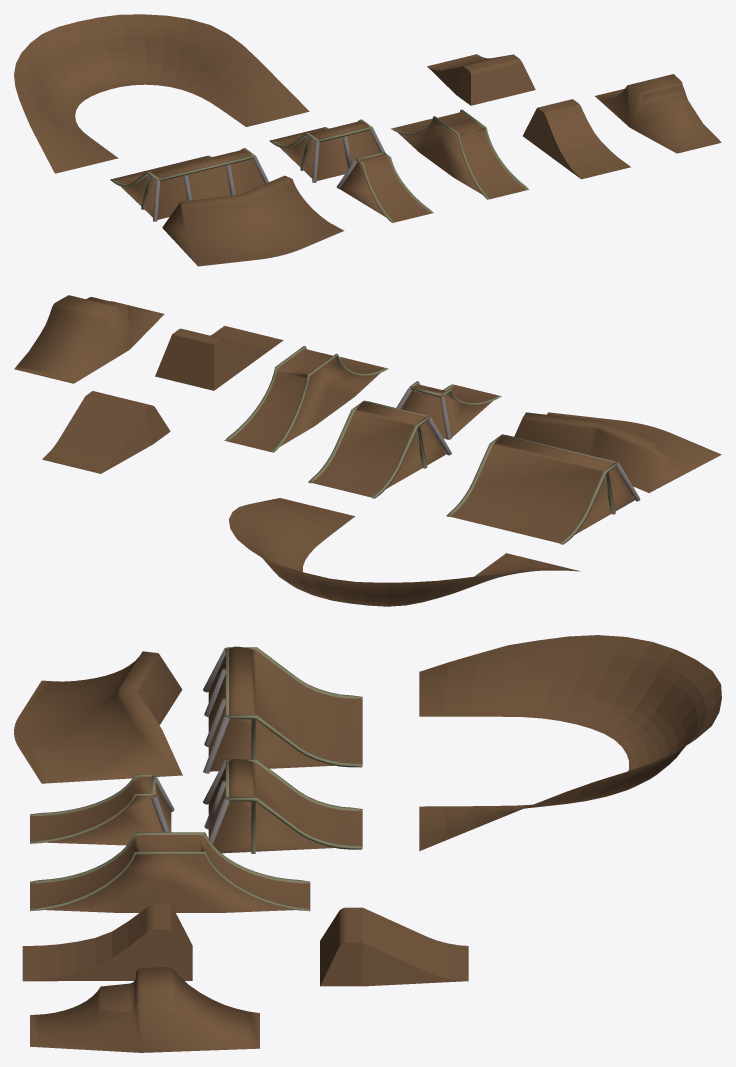
The model's file is DirtJumps_Group_1.fbx.
3 views of the same model, one above another, from view 1: azimuth 30°, elevation 25°; view 2: azimuth 150°, elevation 25°; view 3: azimuth 270°, elevation 25° (orthographic). The views are drawn at different scales.
Parts seen in each view (by area): view 1: Plane.003, Takeoff_2, Landing _2, Spine_1, Plane.002, Plane, Landing_1, Plane.001, Takeoff_1; view 2: Landing _2, Plane.003, Landing_1, Spine_1, Takeoff_2, Plane.002, Plane.001, Plane, Takeoff_1; view 3: Plane.003, Takeoff_2, Landing _2, Spine_1, Plane.002, Landing_1, Plane.001, Plane, Takeoff_1.
Part boxes in pixels (x1,y1,x2,y2): Plane.003: (14, 14, 309, 173); Takeoff_2: (162, 175, 344, 266); Landing _2: (110, 148, 268, 221); Spine_1: (390, 109, 528, 199); Plane.002: (595, 74, 721, 153); Plane: (523, 99, 630, 179); Landing_1: (269, 119, 385, 182); Plane.001: (427, 54, 535, 105); Takeoff_1: (336, 152, 433, 222); Landing _2: (446, 434, 640, 544); Plane.003: (229, 498, 579, 606); Landing_1: (308, 400, 451, 498); Spine_1: (224, 346, 388, 452); Takeoff_2: (514, 412, 721, 492); Plane.002: (14, 295, 164, 383); Plane.001: (42, 391, 170, 473); Plane: (155, 326, 283, 390); Takeoff_1: (396, 381, 501, 439); Plane.003: (419, 635, 721, 851); Takeoff_2: (14, 651, 182, 783); Landing _2: (203, 646, 362, 773); Spine_1: (30, 832, 310, 912); Plane.002: (30, 967, 259, 1052); Landing_1: (203, 758, 362, 853); Plane.001: (320, 907, 468, 986); Plane: (22, 904, 192, 981); Takeoff_1: (30, 774, 174, 845).
Bounding box in the file's own units: 5095 × 405 × 4000.
